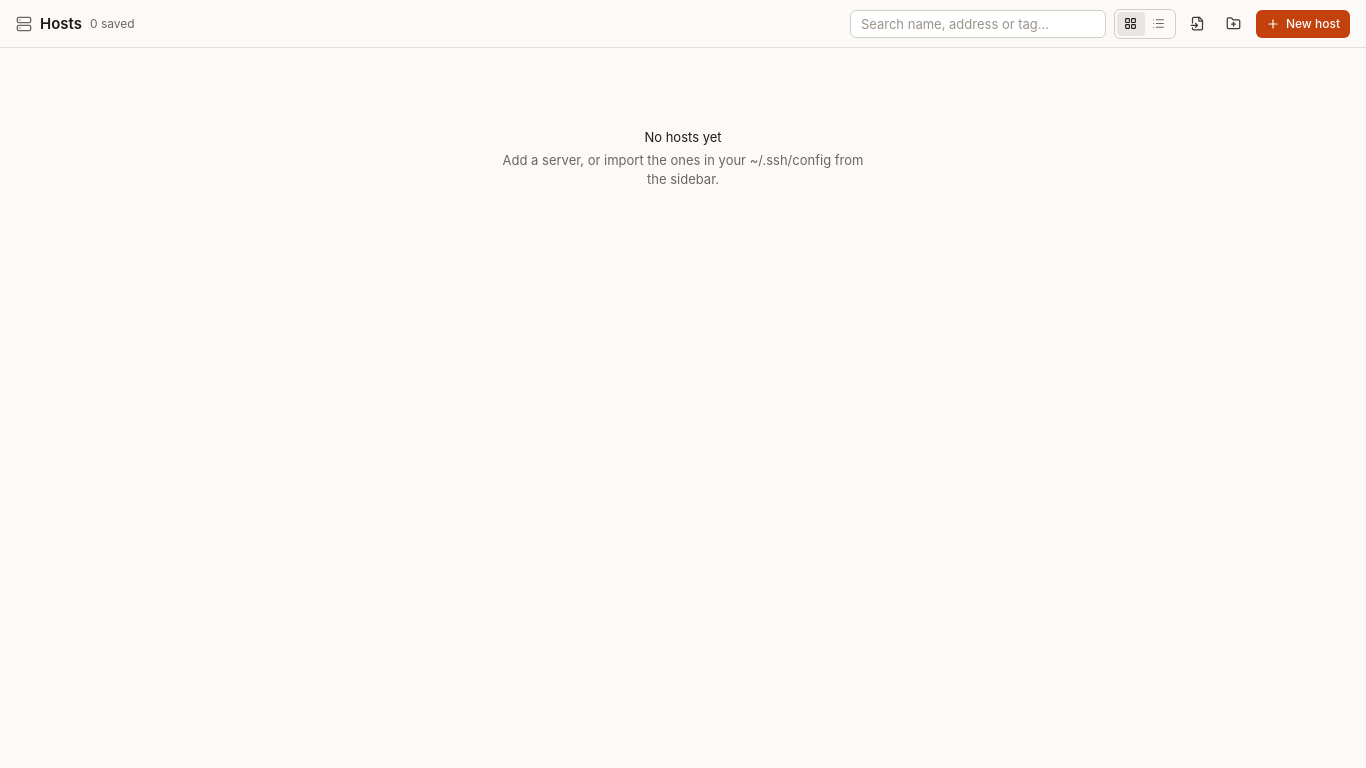
Scenario: Managing hosts and groups › creates a group
Step 1. Click the button named "New group" → (1234, 24), box [1220,10,1248,38]
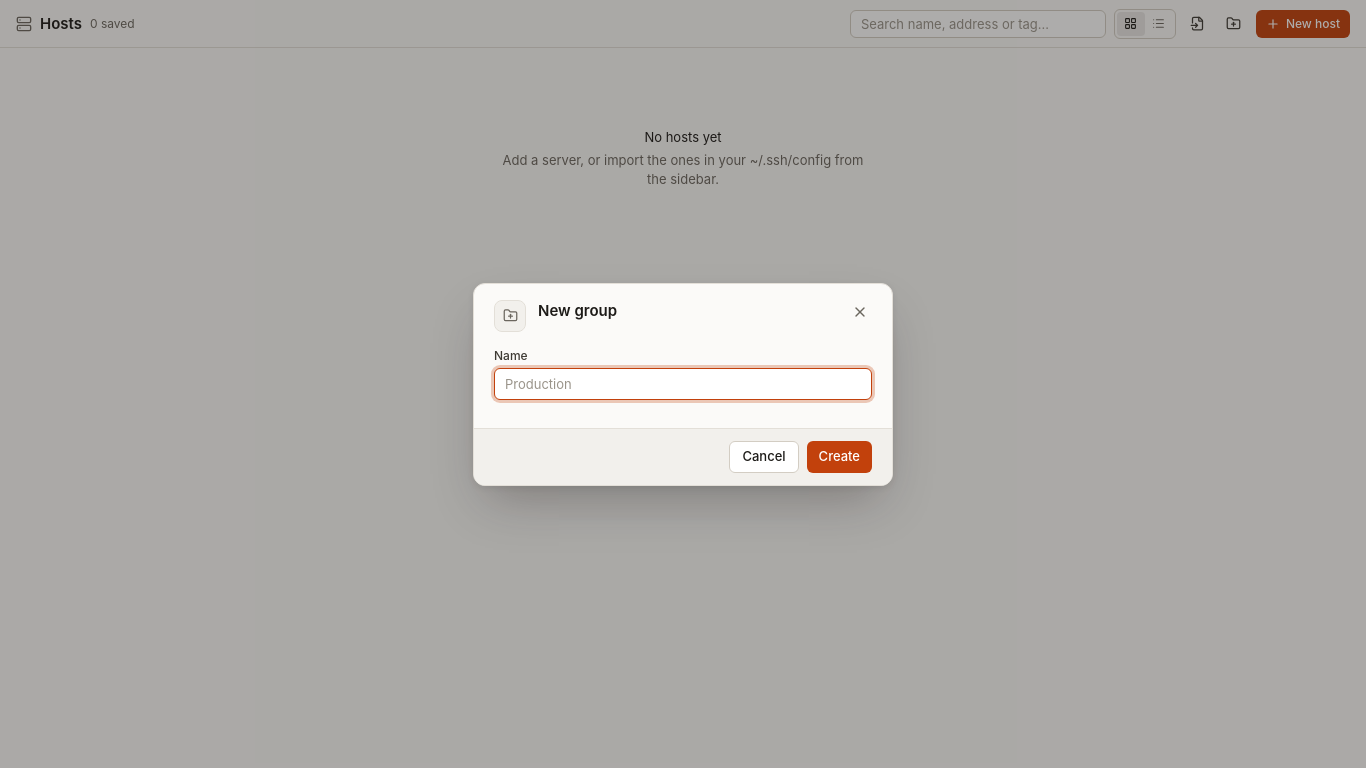
Step 2. Type "Staging" into the field labelled "Name" → (683, 384), box [494,368,872,400]
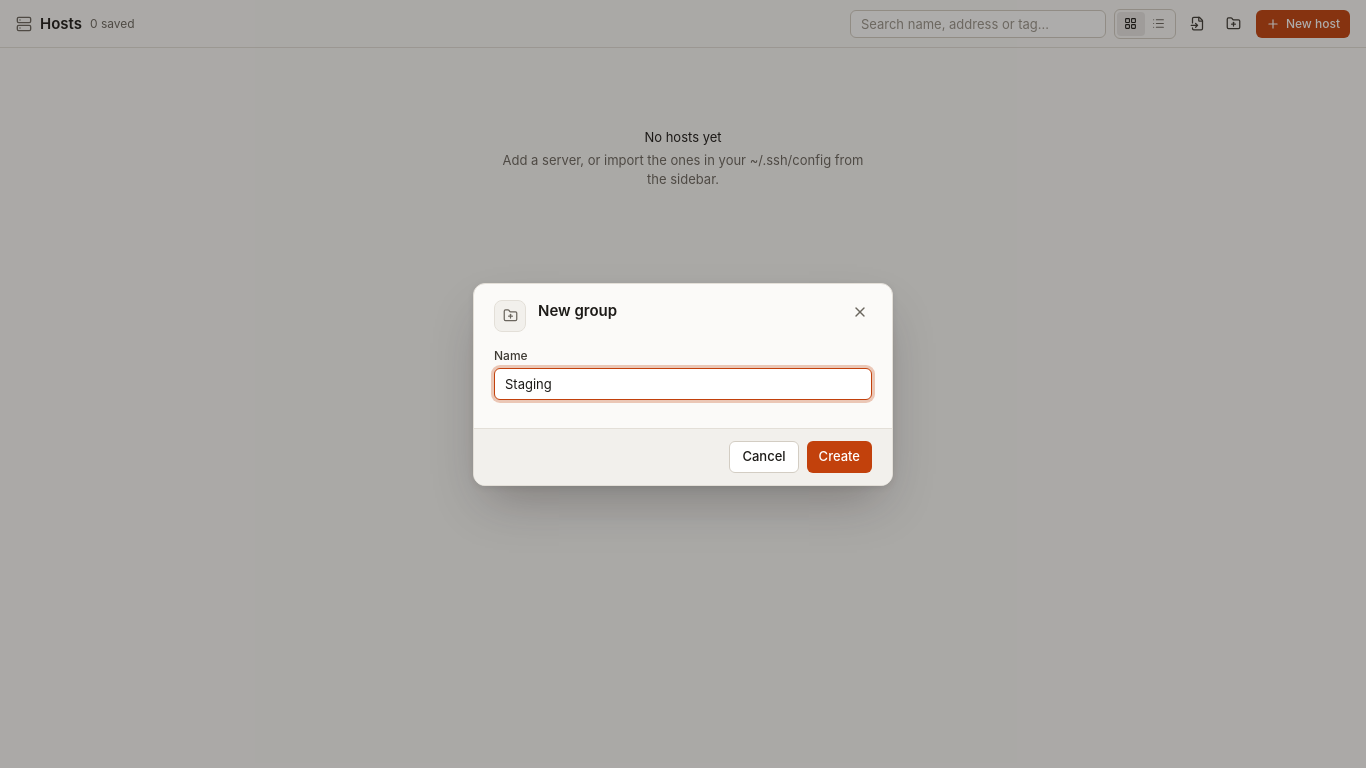
Step 3. Click the button "Create" → (839, 456), box [807,440,872,472]
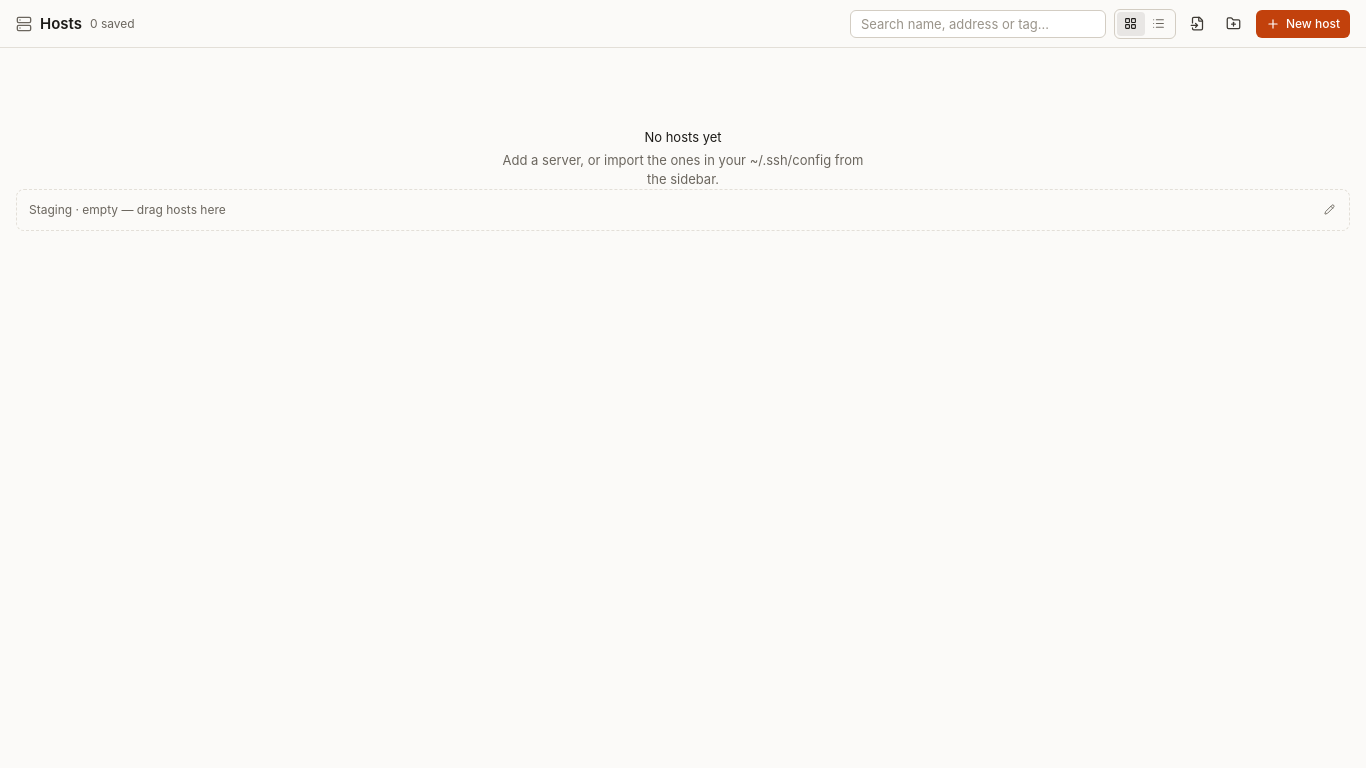
Expected: the element "Staging" is shown, [16,188,1350,230]
